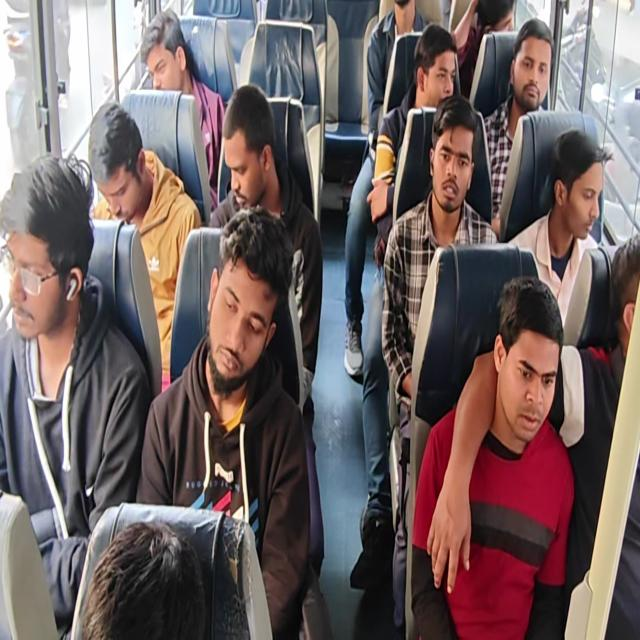person: (1, 1, 638, 638), (136, 205, 328, 638), (0, 152, 152, 638), (380, 93, 499, 636), (348, 20, 462, 584), (410, 275, 575, 638), (207, 83, 325, 579), (87, 101, 202, 393), (343, 1, 429, 377), (366, 22, 460, 270), (506, 127, 612, 334), (140, 8, 226, 208), (482, 18, 554, 236), (80, 519, 207, 639), (366, 1, 428, 144), (450, 0, 516, 98)
